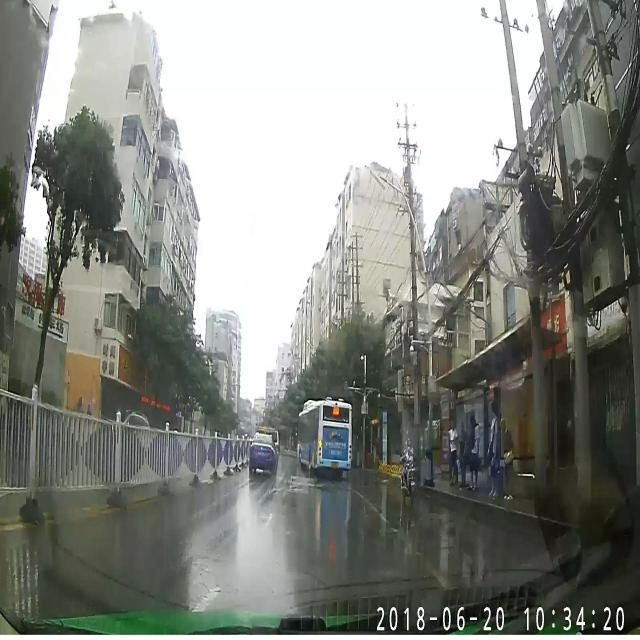car: (250, 431, 276, 474)
